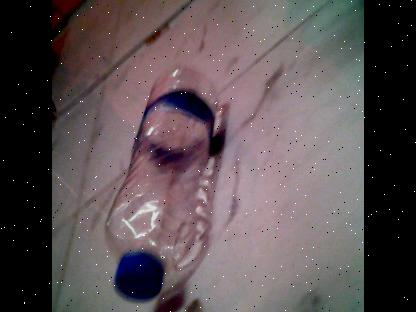Plastic Bottle: (103, 66, 224, 300)
